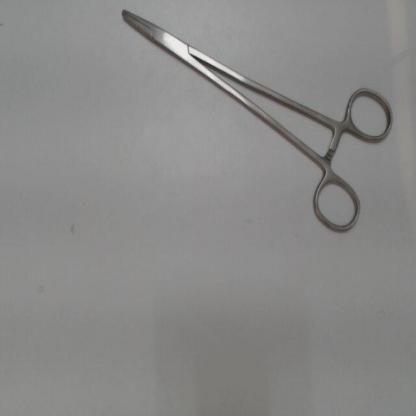8 Mayo Needle Holder: (110, 1, 400, 244)
